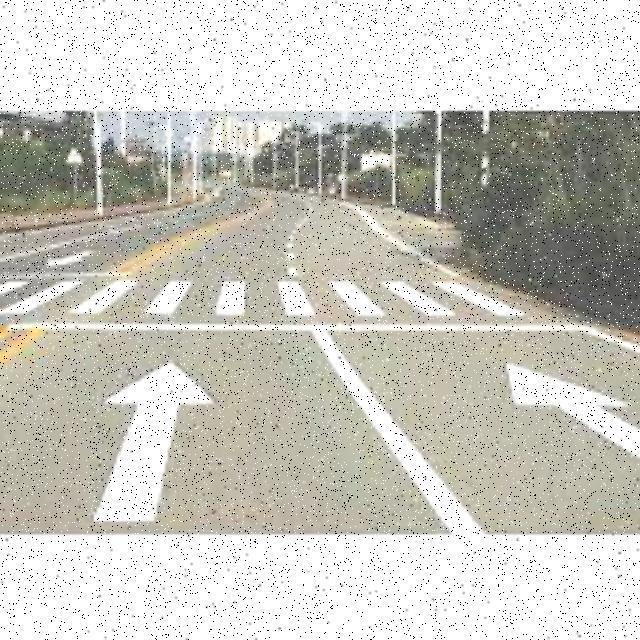Pedestrian crosswalk: (10, 259, 539, 336)
